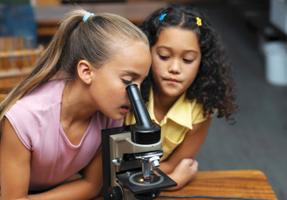person: (2, 9, 154, 199)
